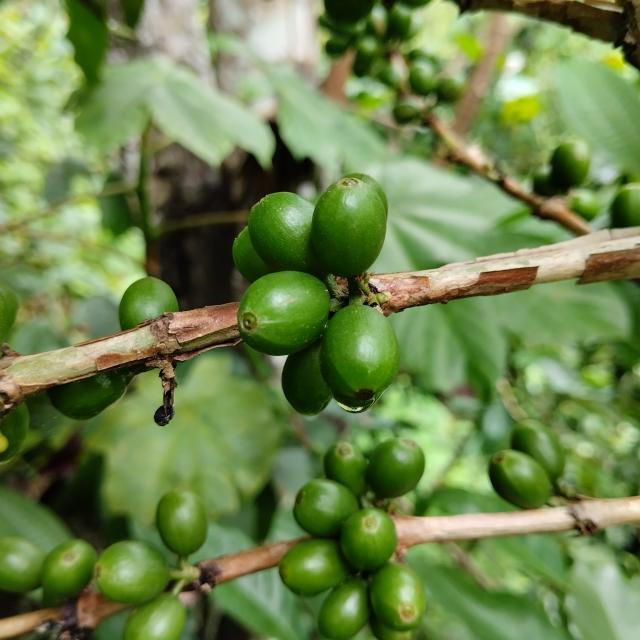green: (320, 305, 400, 413), (237, 270, 331, 356), (312, 177, 387, 278), (248, 192, 326, 278), (94, 541, 169, 605), (279, 540, 350, 598), (370, 563, 427, 632), (294, 479, 359, 539), (282, 339, 332, 416), (489, 450, 552, 510), (340, 508, 398, 571), (366, 438, 425, 499), (156, 489, 207, 558), (40, 540, 96, 599), (118, 276, 178, 331), (318, 579, 369, 640), (123, 594, 186, 640), (324, 442, 367, 497), (232, 226, 273, 283), (344, 172, 388, 216)
